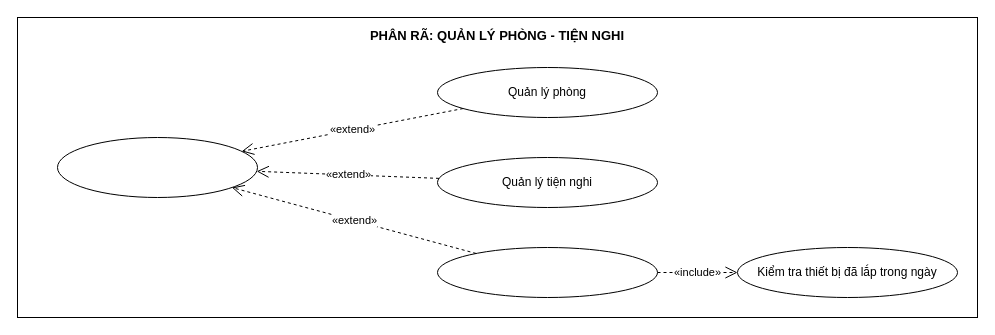
This 995x335 diagram has some shape labels left out. The box of each missing label's shape, as (x1, y1, x2, y2) in pixels:
Lập phiếu lắp đặt / luân chuyển: (436, 246, 658, 298)
Quản lý phòng - tiện nghi: (56, 136, 258, 198)
